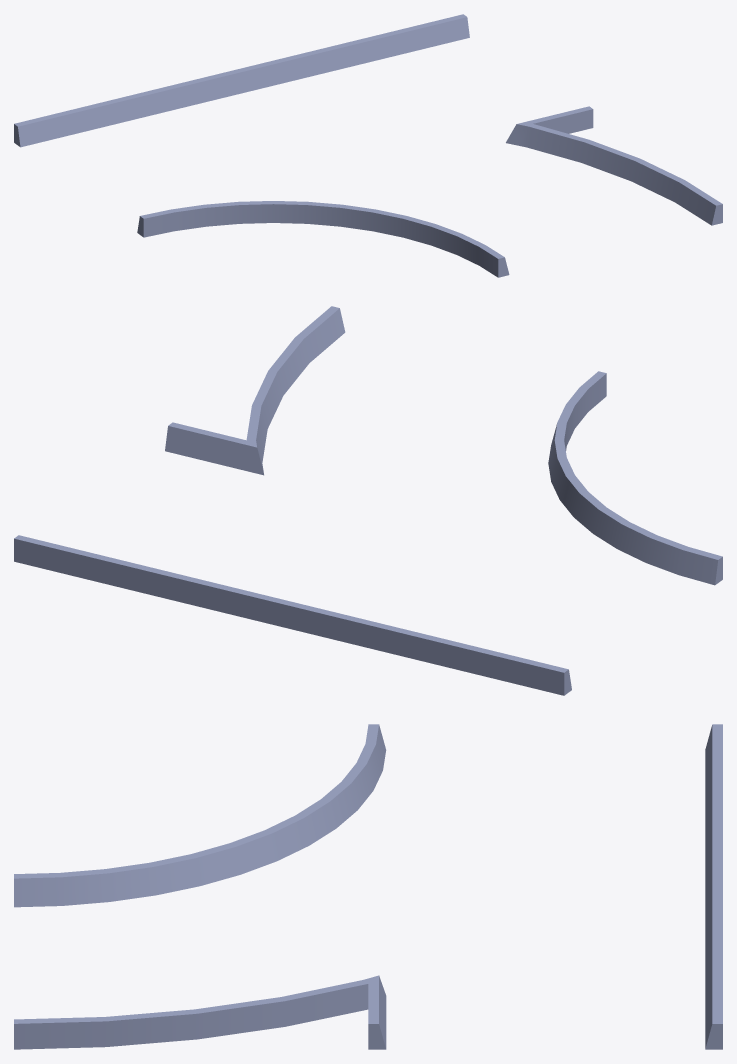
The model's file is road-curve-intersection-barrier.glb.
3 views of the same model, one above another, from view 1: azimuth 30°, elevation 25°; view 2: azimuth 150°, elevation 25°; view 3: azimuth 270°, elevation 25° (orthographic). The views are drawn at different scales.
Visible parts, largest first — view 1: road-curve-intersection-barrier; view 2: road-curve-intersection-barrier; view 3: road-curve-intersection-barrier.
Boxes of the visible parts, left/top/right/bottom form: road-curve-intersection-barrier: left=14, top=14, right=722, bottom=277; road-curve-intersection-barrier: left=14, top=306, right=722, bottom=695; road-curve-intersection-barrier: left=14, top=724, right=722, bottom=1049.
Bounding box in the file's own units: 20 × 0.8008 × 20.
Materials: 1 (1 with a texture image).
